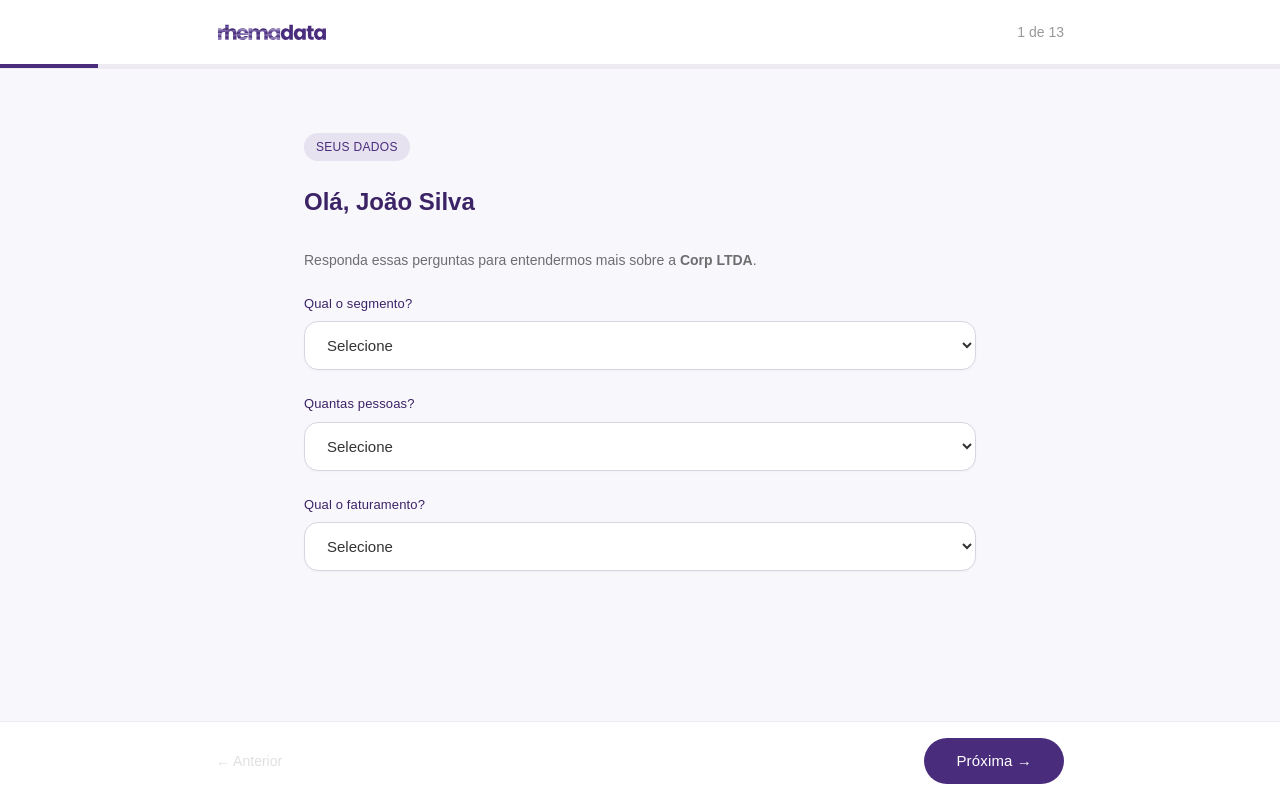
Test: DiagnosticoPage › avança para dimensões após preencher perfil
The width and height of the screenshot is (1280, 800).
Expected: the heading "Olá, João Silva" is shown, top-left (304, 188), bottom-right (475, 215)
Select "Indústria" in the dropdown labelled "Qual o segmento?" at {"x": 640, "y": 346}, box top-left (304, 321), bottom-right (976, 370)
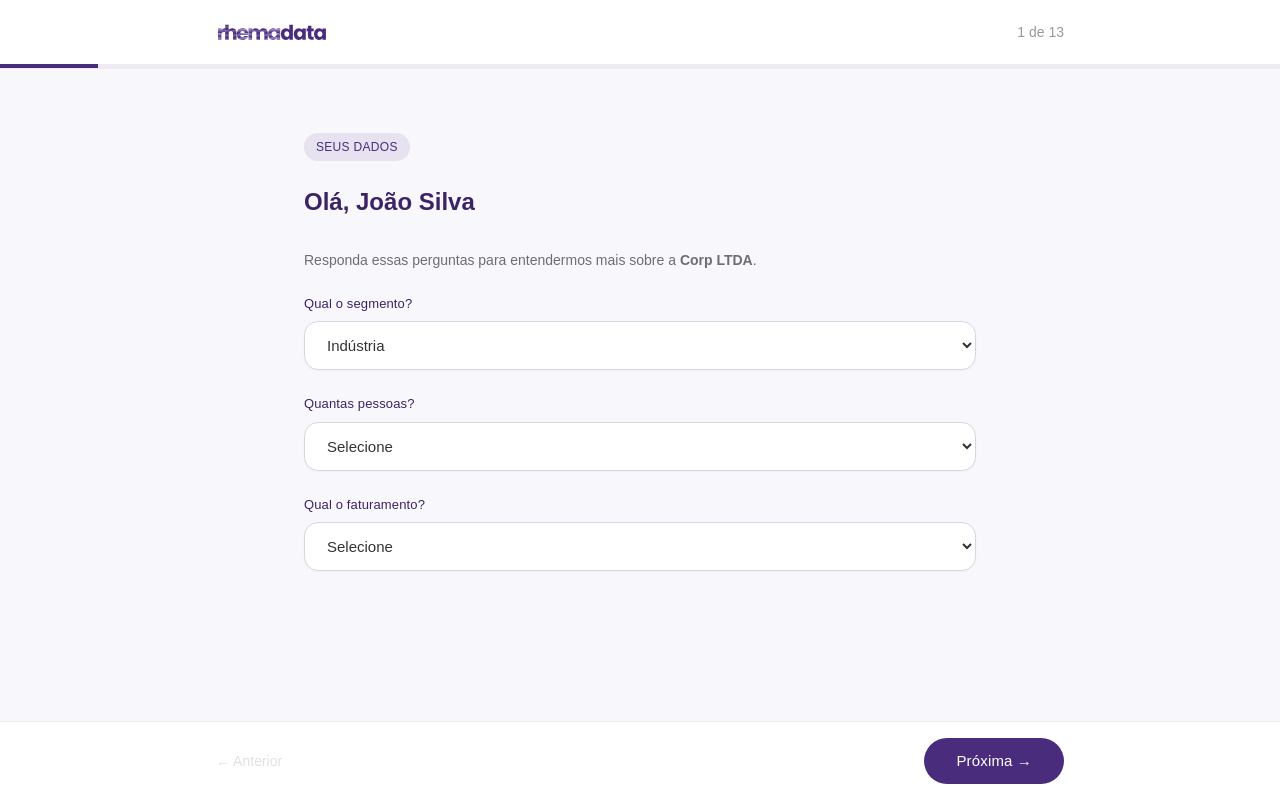
Select "Até 50" in the dropdown labelled "Quantas pessoas?" at {"x": 640, "y": 446}, box top-left (304, 422), bottom-right (976, 471)
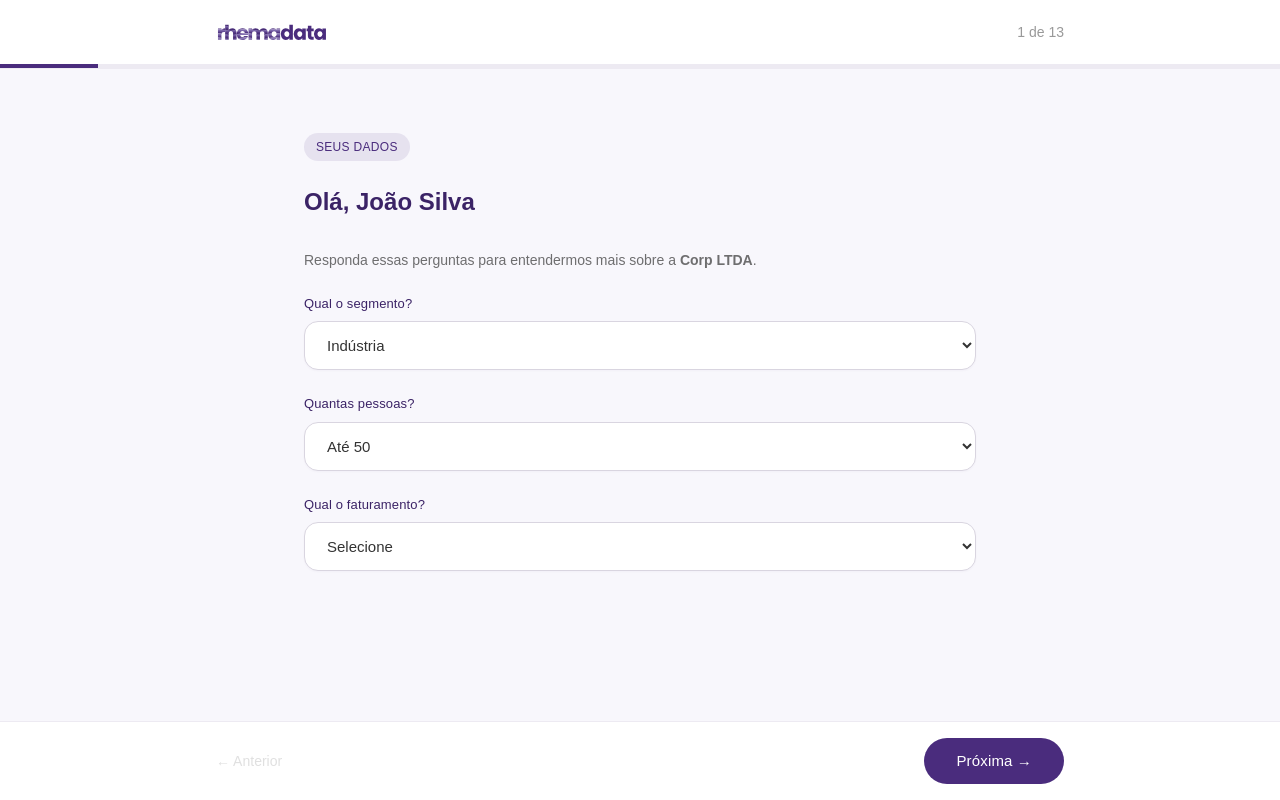
Select "Até R$ 5 mi" in the dropdown labelled "Qual o faturamento?" at {"x": 640, "y": 547}, box top-left (304, 522), bottom-right (976, 571)
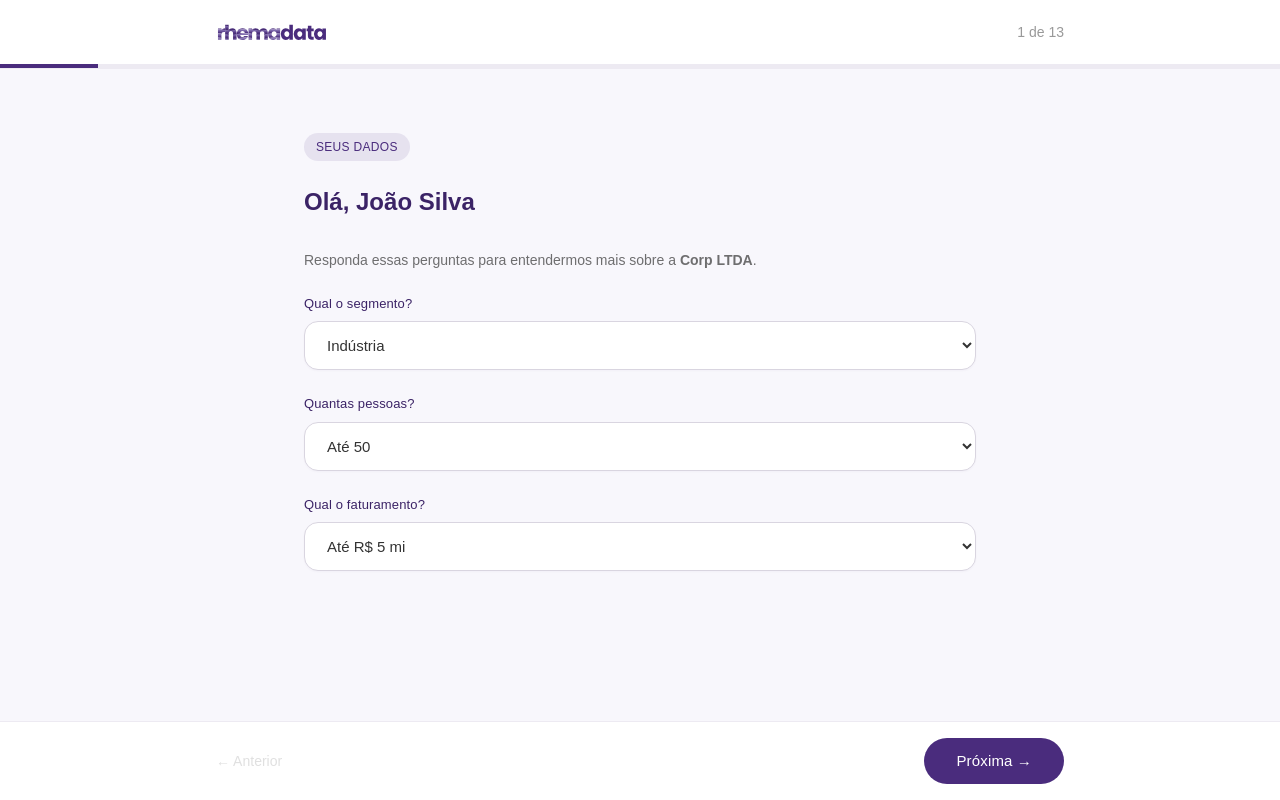
Click the button "Próxima →" at {"x": 994, "y": 761}, box top-left (924, 738), bottom-right (1064, 784)
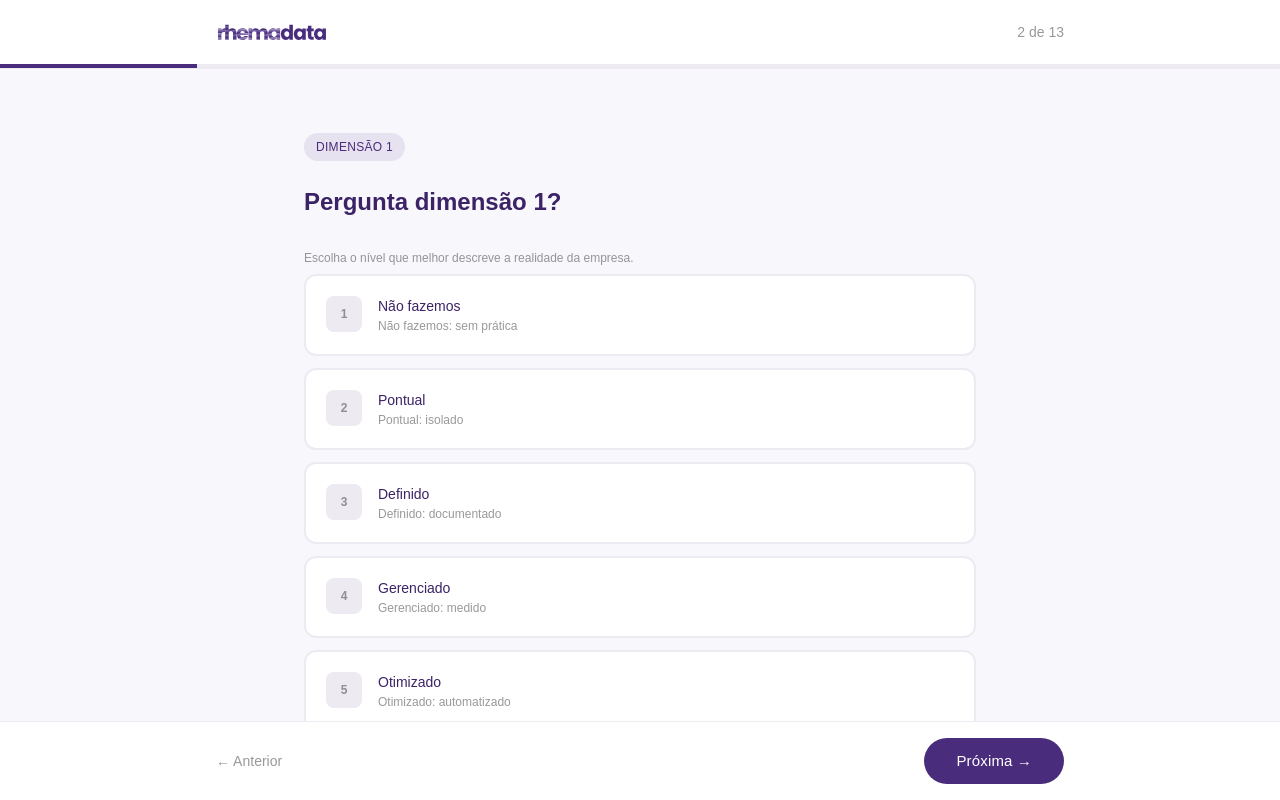
Expected: the text "Dimensão 1" is shown, top-left (304, 133), bottom-right (405, 161)
